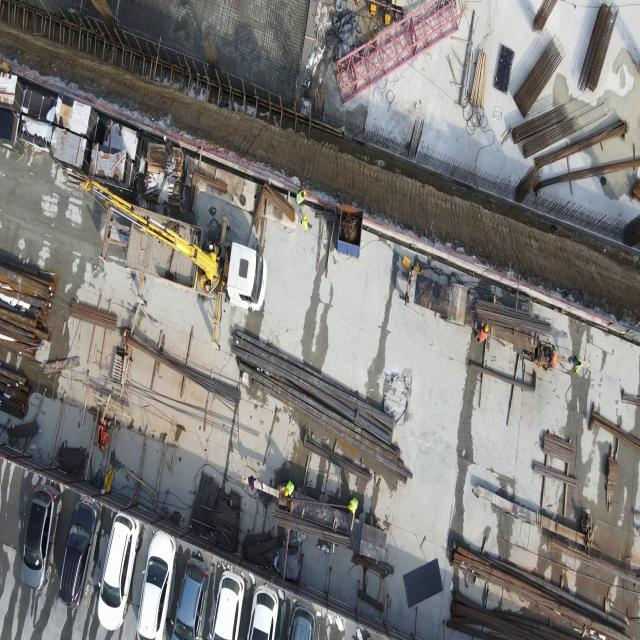p3rson: (163, 135, 177, 167), (543, 341, 557, 372), (475, 321, 488, 344), (282, 480, 294, 501), (301, 213, 312, 232), (295, 189, 306, 205), (347, 498, 358, 512), (208, 243, 219, 255)
